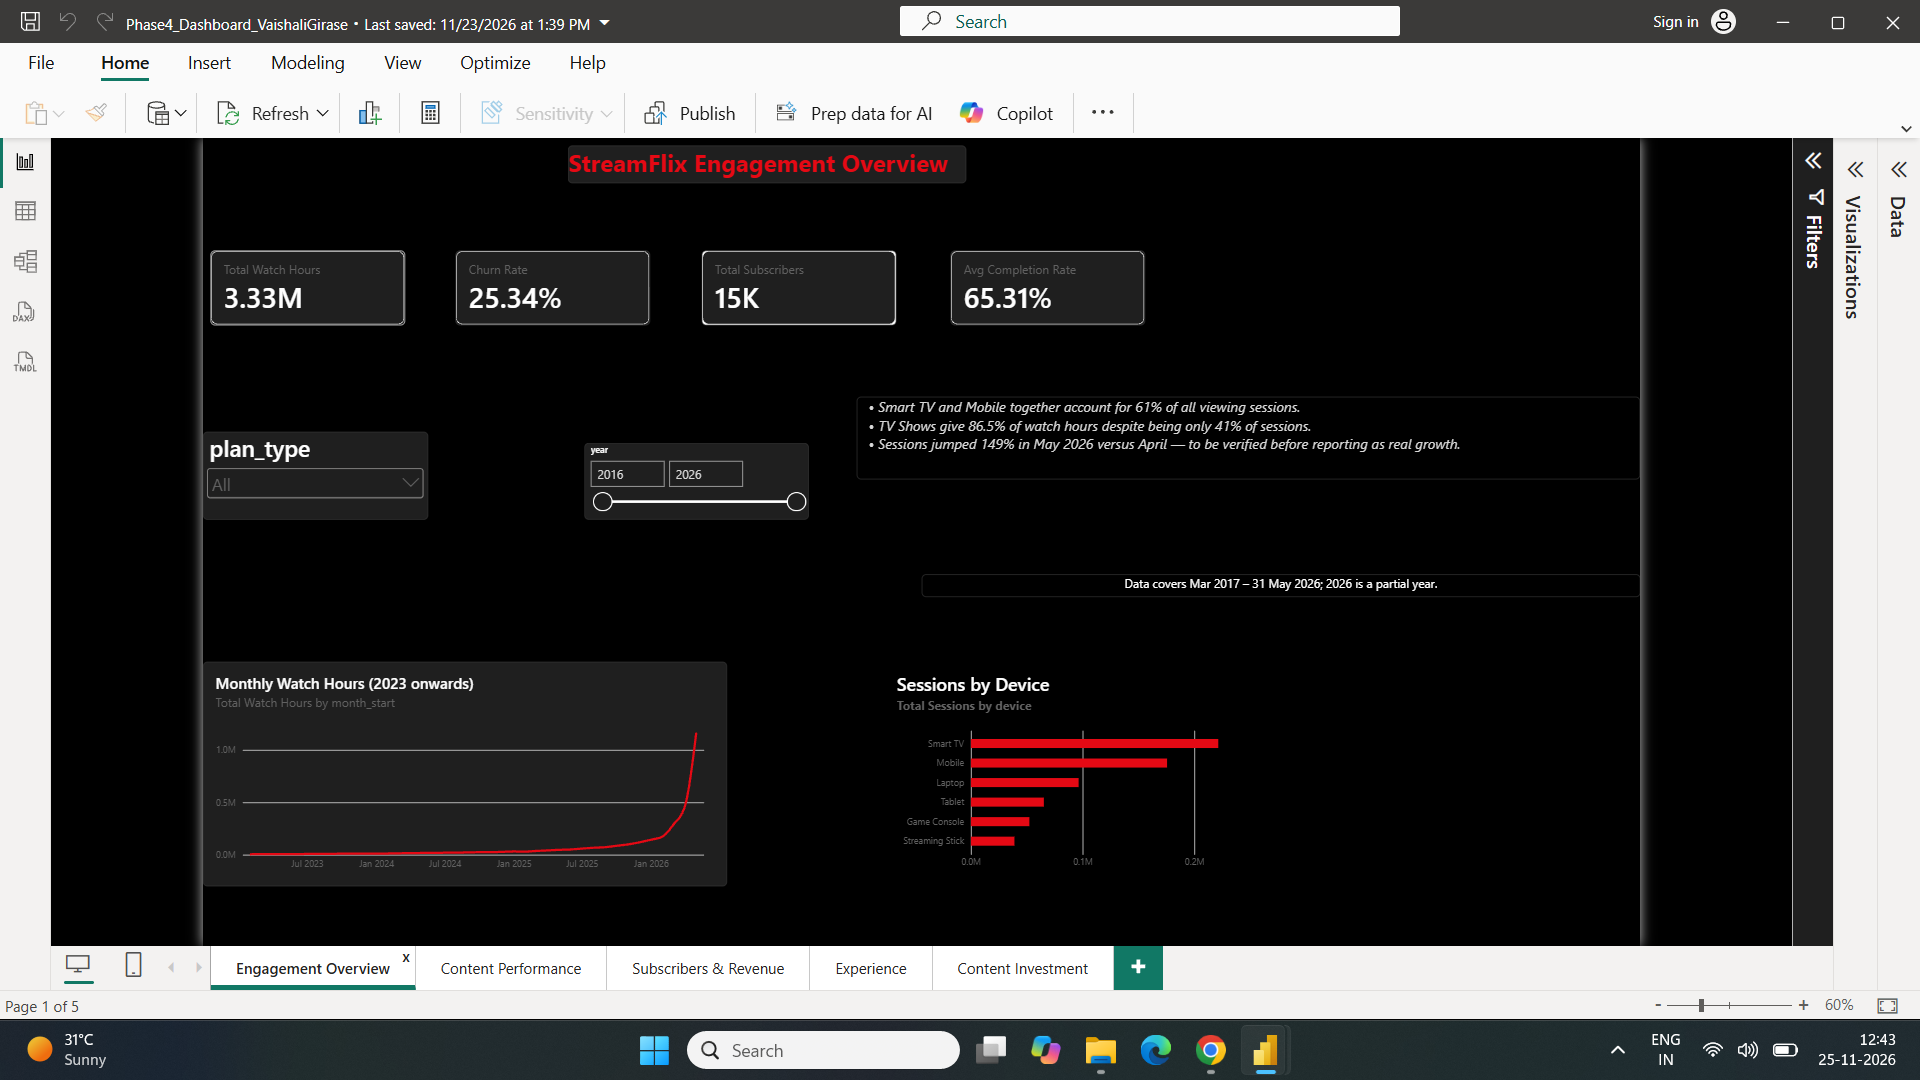

The page's visual inventory and layout, read from the dashboard file:
{"tool":"powerbi","page":{"name":"Engagement Overview","canvas":[1920,1080],"ordinal":0},"visuals":[{"type":"cardVisual","fields":{"Data":["fact_watch.Total Watch Hours"]},"box":[10.3,150.3,260,100],"z":0},{"type":"cardVisual","fields":{"Data":["fact_watch.Churn Rate"]},"box":[337.6,150.3,260,100],"z":1000},{"type":"cardVisual","fields":{"Data":["fact_watch.Total Subscribers"]},"box":[666.9,150.3,260,100],"z":2000},{"type":"cardVisual","fields":{"Data":["fact_watch.Avg Completion Rate"]},"box":[998.3,150.3,260,100],"z":3000},{"type":"lineChart","title":"Monthly Watch Hours (2023 onwards)","fields":{"Category":["dim_date.month_start"],"Y":["fact_watch.Total Watch Hours"]},"box":[0,699.8,700,300],"z":4000},{"type":"slicer","fields":{"Values":["dim_date.year"]},"box":[510,408,300,102],"z":5000},{"type":"slicer","fields":{"Values":["dim_subscribers.plan_type"]},"box":[0,393.1,300.5,117.3],"z":6000},{"type":"textbox","box":[488,10,532,50],"z":7000},{"type":"clusteredBarChart","title":"Sessions by Device","fields":{"Category":["fact_watch.device"],"Y":["fact_watch.Total Sessions"]},"box":[909.8,697.8,520,300],"z":8000},{"type":"textbox","box":[874,346,1046,110],"z":9000},{"type":"textbox","box":[960,582,960,30],"z":10000}]}

Visuals, with their boxes on the page's 1920x1080 design canvas (x1, y1, x2, y2). These are canvas units, not pixel positions in the 1920x1080 screenshot, which may show the page scaled, cropped or inside an application window:
cardVisual - fact_watch.Total Watch Hours: box=[10, 150, 270, 250]
cardVisual - fact_watch.Churn Rate: box=[338, 150, 598, 250]
cardVisual - fact_watch.Total Subscribers: box=[667, 150, 927, 250]
cardVisual - fact_watch.Avg Completion Rate: box=[998, 150, 1258, 250]
"Monthly Watch Hours (2023 onwards)" lineChart: box=[0, 700, 700, 1000]
slicer - dim_date.year: box=[510, 408, 810, 510]
slicer - dim_subscribers.plan_type: box=[0, 393, 300, 510]
textbox: box=[488, 10, 1020, 60]
"Sessions by Device" clusteredBarChart: box=[910, 698, 1430, 998]
textbox: box=[874, 346, 1920, 456]
textbox: box=[960, 582, 1920, 612]
